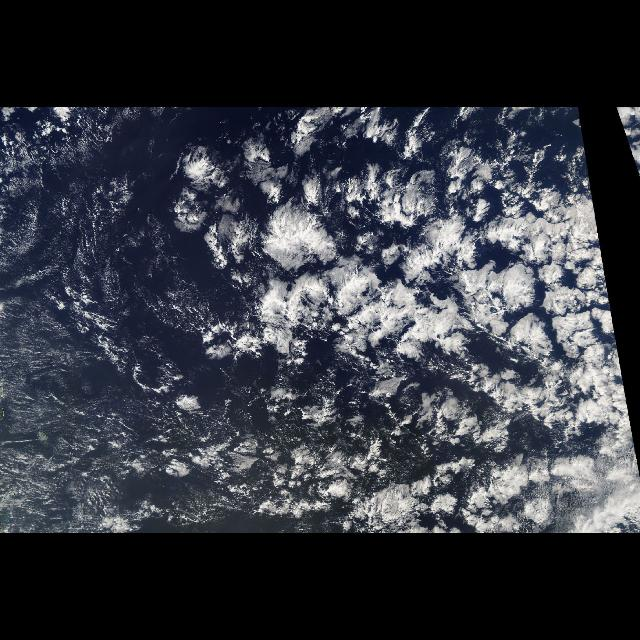Flower: (159, 108, 617, 422)
Sugar: (0, 117, 202, 533)
